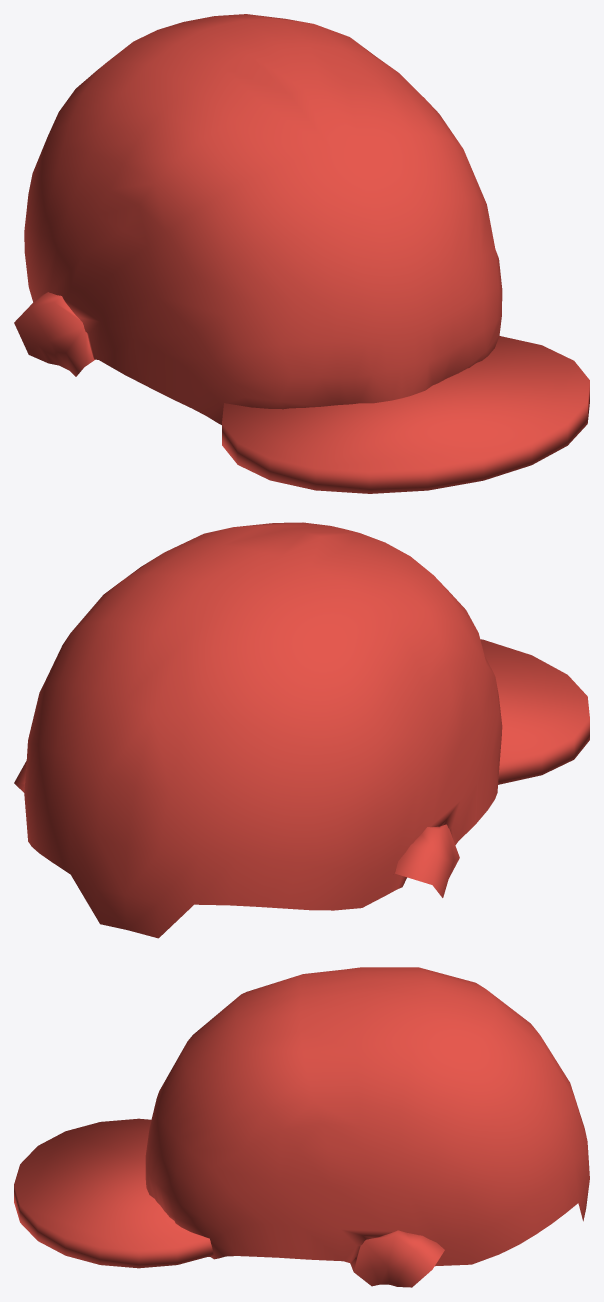
File: hair-cap.glb
3 views of the same model, one above another, from view 1: azimuth 30°, elevation 25°; view 2: azimuth 150°, elevation 25°; view 3: azimuth 270°, elevation 25° (orthographic). The views are drawn at different scales.
Parts seen in each view (by area): view 1: cap; view 2: cap; view 3: cap.
Boxes of the visible parts, <box> form: cap: <box>14,14,589,493</box>; cap: <box>14,522,589,938</box>; cap: <box>14,967,589,1287</box>.
Size of the model in its own units: 0.1989 by 0.1352 by 0.2952.
